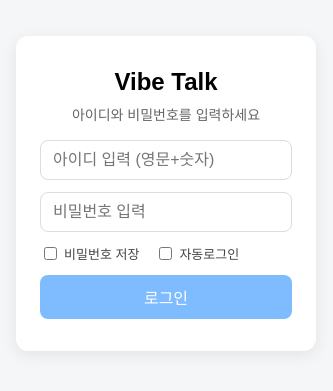
Test case: NicknameView › 영문+숫자가 아니면 오류를 보여준다
The image size is (333, 391).
Type "철수" into the field with placeholder "아이디 입력 (영문+숫자)" at (166, 160), box [40,140,292,180]
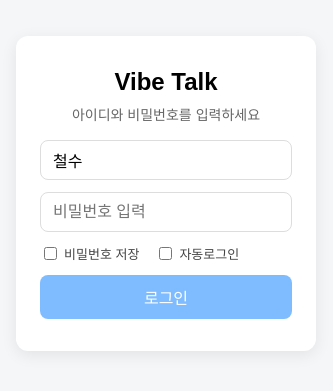
Press Enter in the field, box [40,140,292,180]
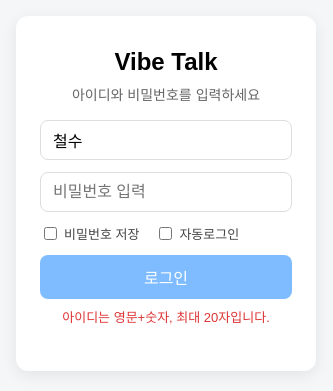
Check: the text with class "error" shows "영문+숫자", box [62,310,270,324]
